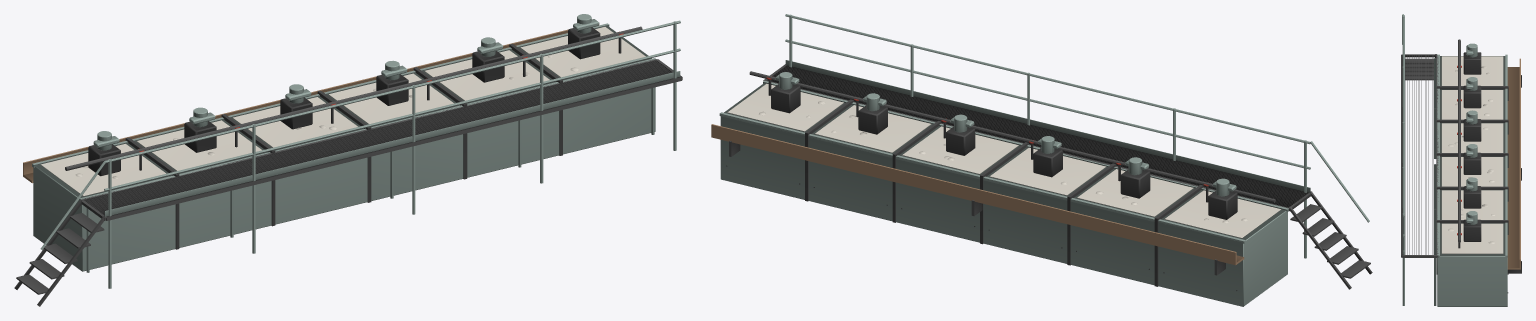
The model's file is mill_flotation.glb.
The picture shows the model from 3 angles, left to right: view 1: azimuth 30°, elevation 25°; view 2: azimuth 150°, elevation 25°; view 3: azimuth 270°, elevation 25°; orthographic projection. The views are drawn at different scales.
Parts seen in each view (by area): view 1: static; view 2: static; view 3: static.
Part boxes in pixels (x1,y1,x2,y2): static: [14, 14, 682, 306]; static: [711, 14, 1372, 306]; static: [1401, 14, 1521, 306].
Size of the model in its own units: 12.09 by 2.33 by 2.75.
